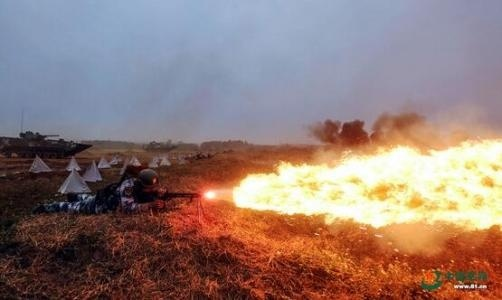fire: (222, 141, 502, 229)
